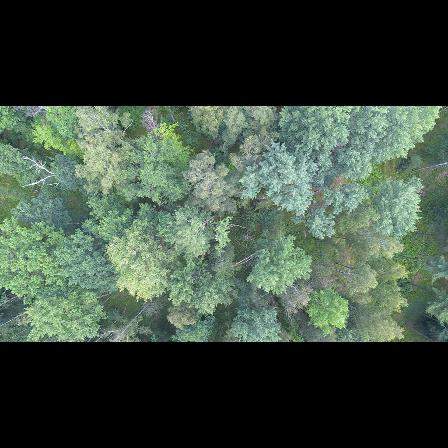Dead: (109, 296, 154, 342), (17, 154, 65, 195), (137, 108, 166, 136)
